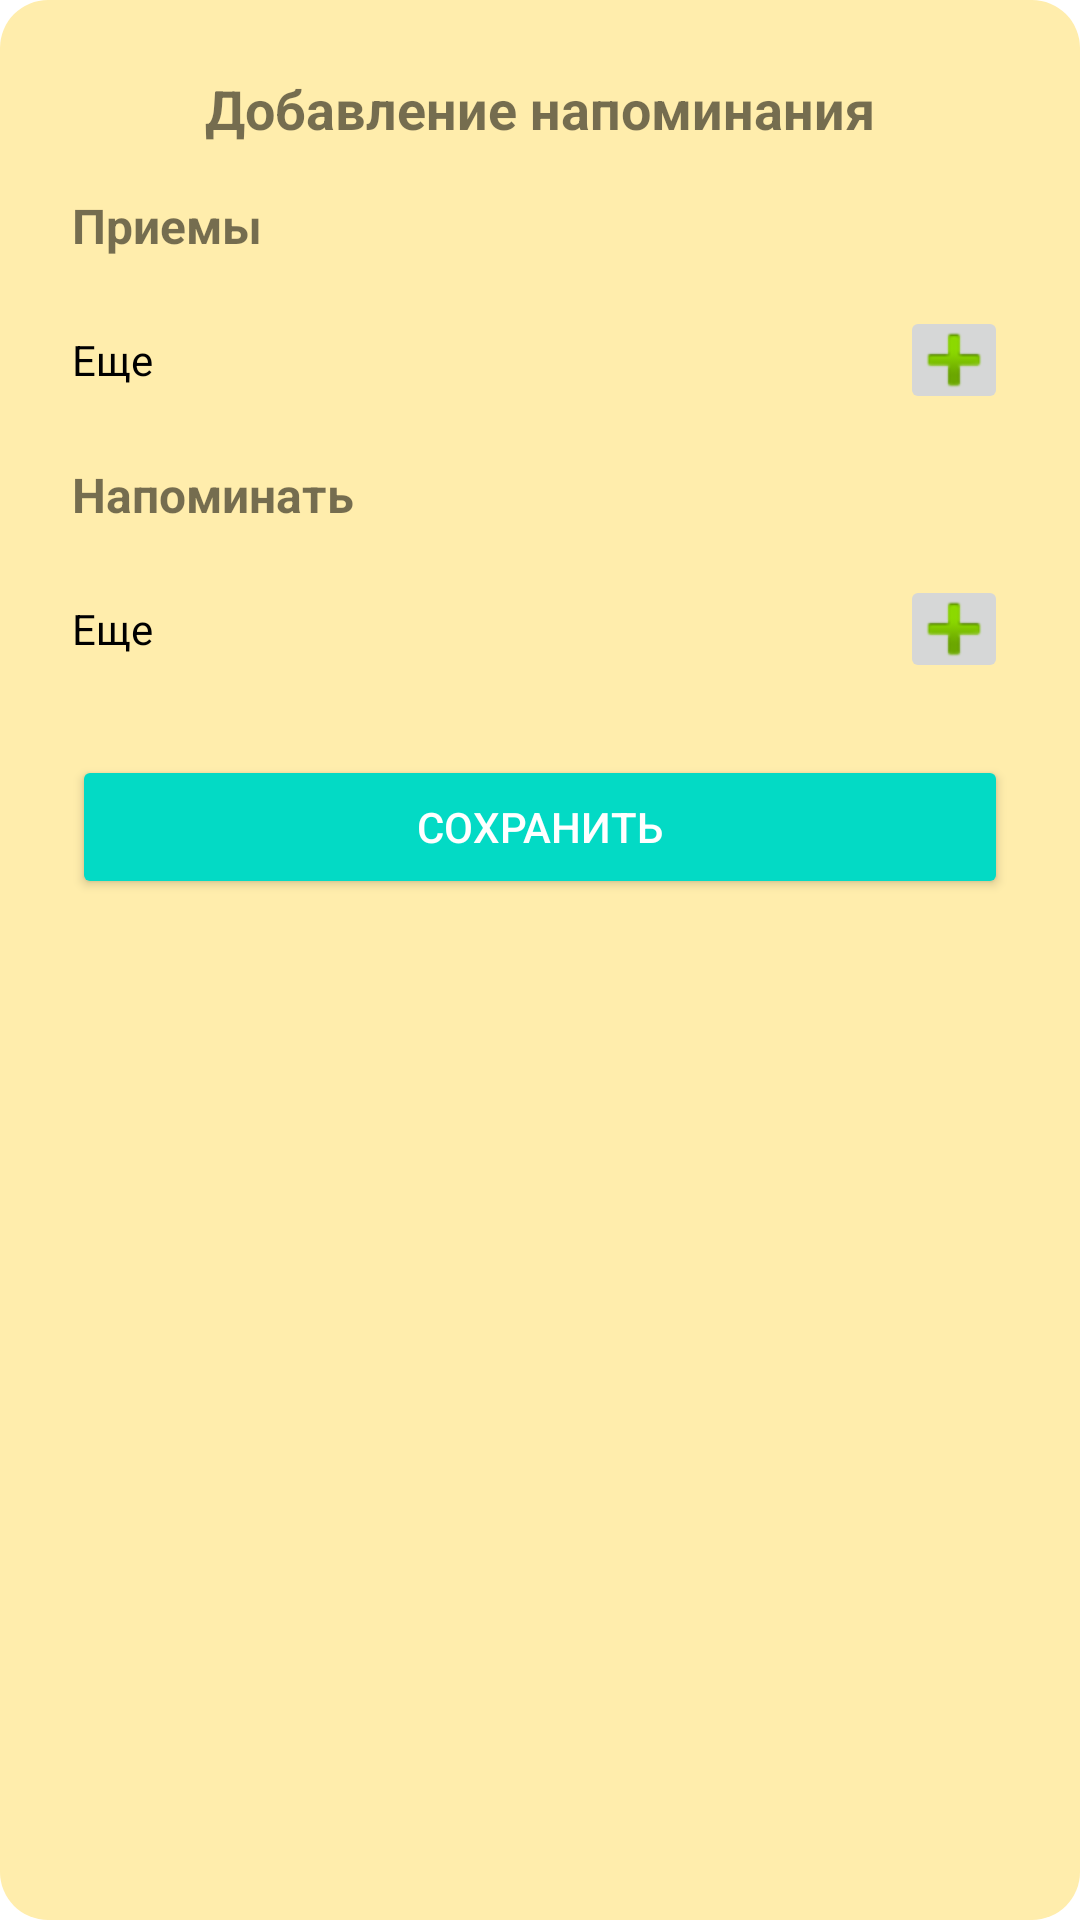

Where icons sit on this 1080*1920 app screen, as box=[x1, y1, x2, y2]:
Добавить напоминание: box=[912, 593, 996, 665]
Добавить прием: box=[912, 324, 996, 396]
